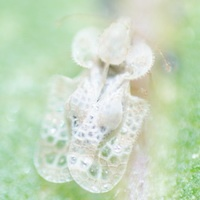insect: (35, 17, 153, 192)
